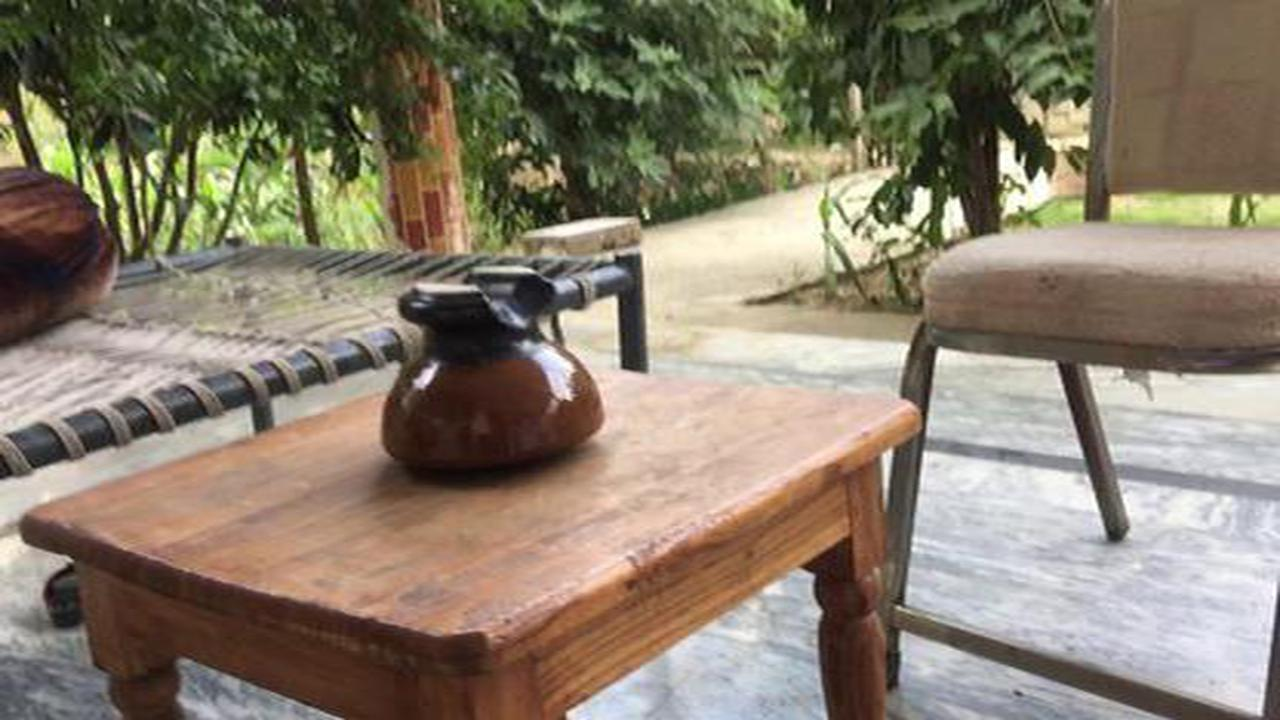insulator_pin: (367, 250, 607, 492)
